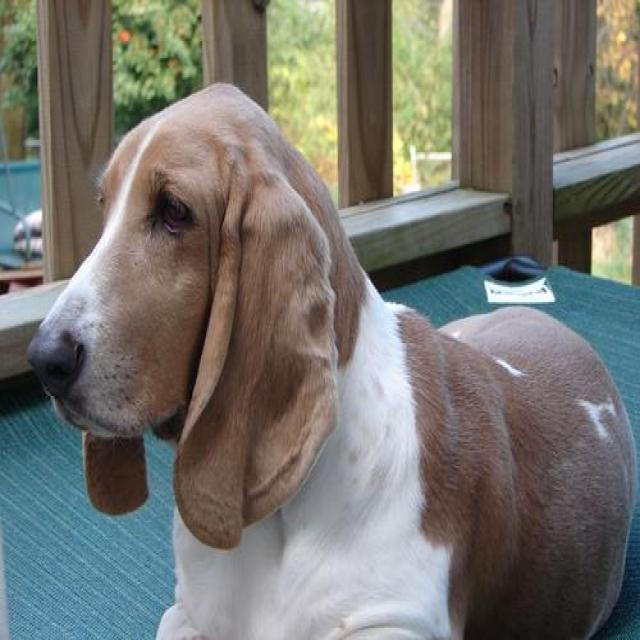adult_dog: (26, 81, 639, 637)
